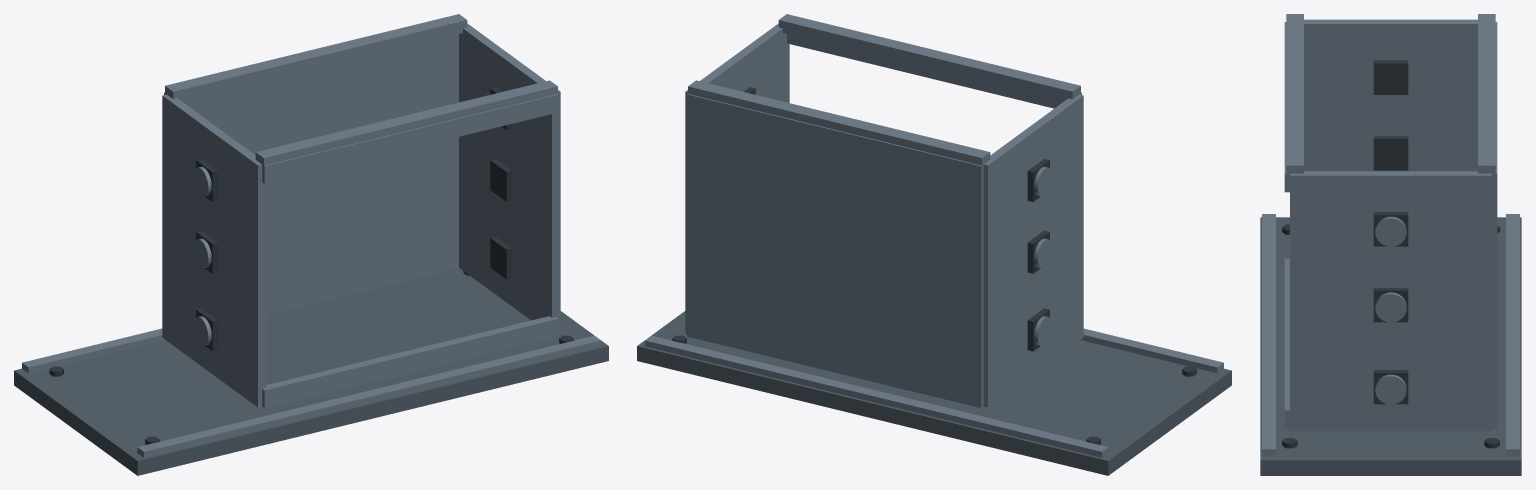
The model's file is housing.glb.
The picture shows the model from 3 angles, left to right: view 1: azimuth 30°, elevation 25°; view 2: azimuth 150°, elevation 25°; view 3: azimuth 270°, elevation 25°; orthographic projection. The views are drawn at different scales.
Size of the model in its own units: 330 by 184 by 150.
